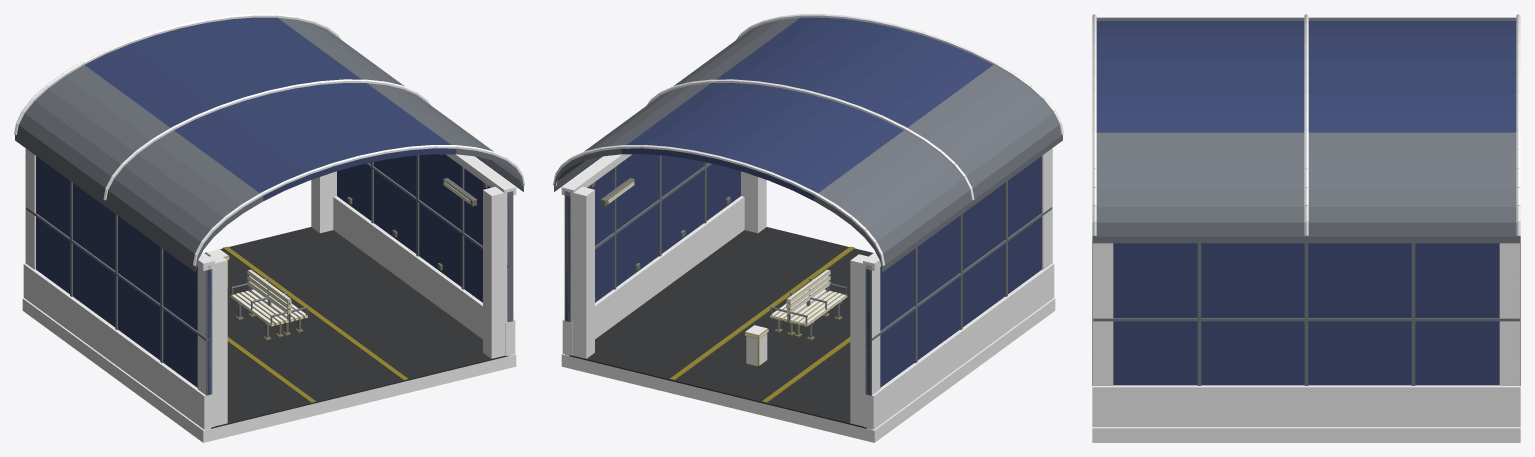
The model's file is station_shell_close.fbx.
The picture shows the model from 3 angles, left to right: view 1: azimuth 30°, elevation 25°; view 2: azimuth 150°, elevation 25°; view 3: azimuth 270°, elevation 25°; orthographic projection. The views are drawn at different scales.
Parts seen in each view (by area): view 1: p602/station_shell_close; view 2: p602/station_shell_close; view 3: p602/station_shell_close.
Part boxes in pixels (bbox=[...]): p602/station_shell_close: bbox=[14, 14, 524, 442]; p602/station_shell_close: bbox=[553, 14, 1063, 442]; p602/station_shell_close: bbox=[1092, 14, 1520, 442].
Size of the model in its own units: 8.49 by 6.07 by 8.
